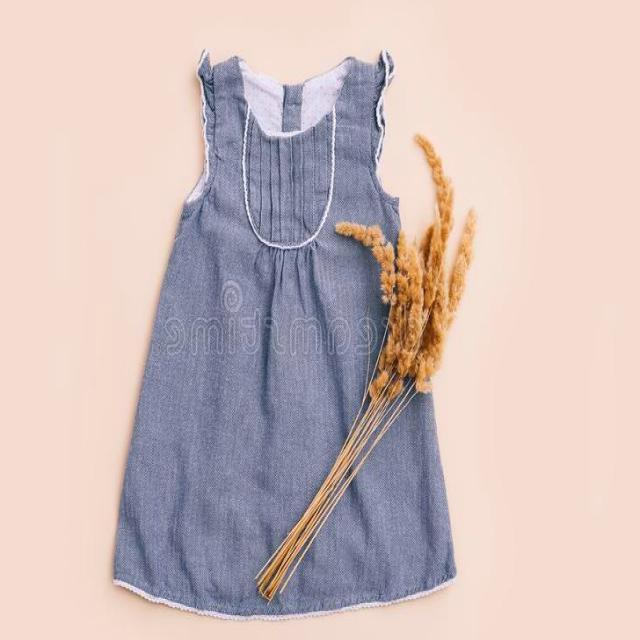clothes: (106, 33, 409, 616)
